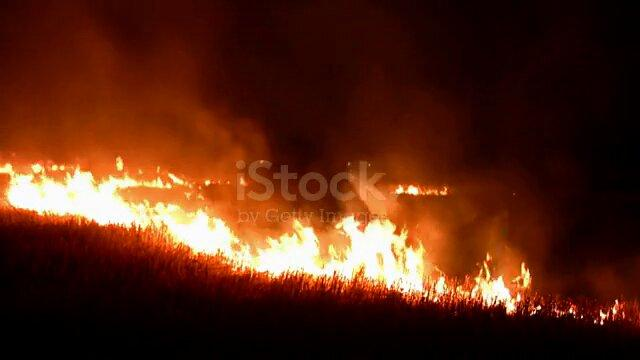fire: (260, 214, 528, 317), (3, 157, 249, 263)
